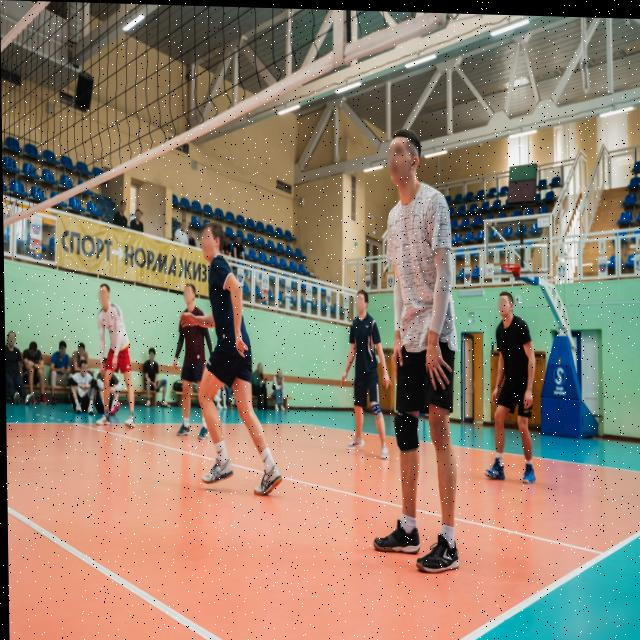Person: (358, 118, 465, 592), (194, 214, 279, 532), (482, 281, 544, 482), (337, 279, 395, 468), (95, 270, 143, 444), (170, 283, 214, 437), (4, 326, 27, 411), (23, 333, 48, 409), (47, 336, 72, 409), (142, 348, 168, 410), (246, 359, 271, 416), (72, 356, 93, 420), (267, 363, 288, 412), (111, 192, 130, 240), (130, 204, 149, 244), (164, 215, 187, 248), (70, 341, 89, 368), (231, 232, 246, 259), (185, 229, 197, 251), (223, 230, 231, 262)
